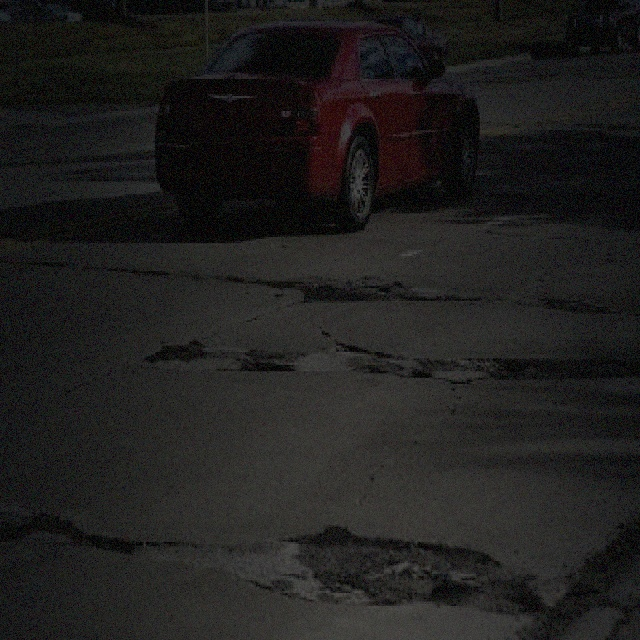pothole: (278, 520, 536, 616), (404, 352, 638, 382), (293, 271, 445, 303), (0, 508, 83, 544), (235, 352, 293, 373)
